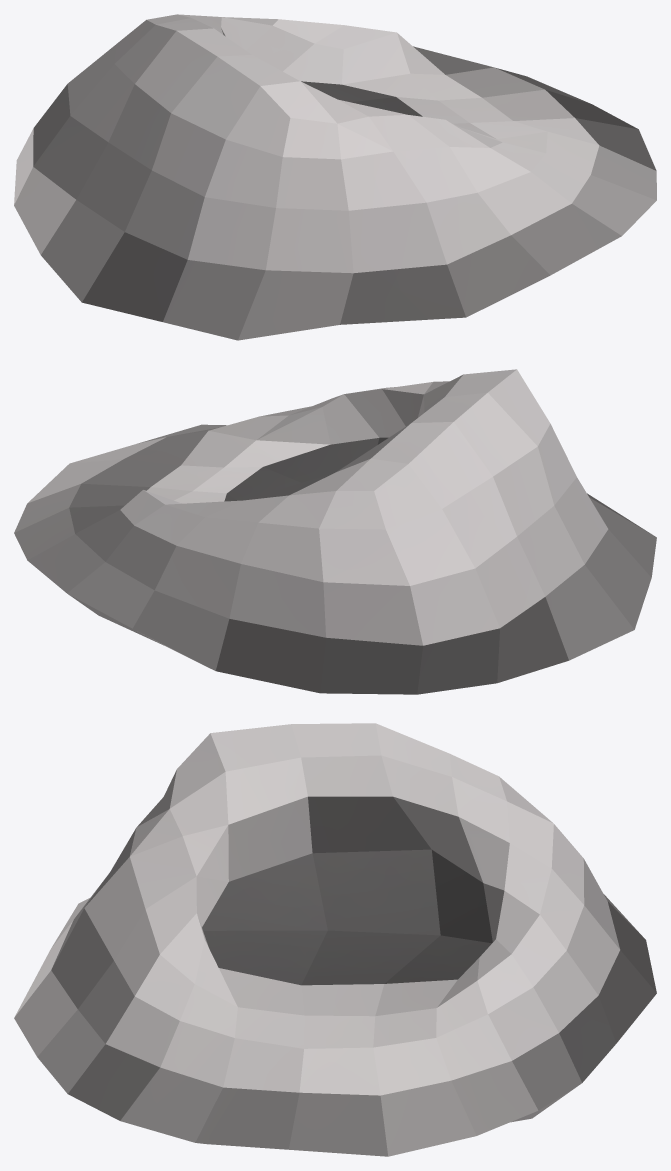
The model's file is Hole.fbx.
The picture shows the model from 3 angles, top to bottom: view 1: azimuth 30°, elevation 25°; view 2: azimuth 150°, elevation 25°; view 3: azimuth 270°, elevation 25°; orthographic projection. The views are drawn at different scales.
Visible parts, largest first — view 1: Nora; view 2: Nora; view 3: Nora.
Boxes of the visible parts, x1,y1,x2,y2 form: Nora: [14, 14, 656, 340]; Nora: [14, 369, 656, 694]; Nora: [14, 723, 656, 1156].
Size of the model in its own units: 91.6 by 38.51 by 80.96.
1 material, 1 textured.
